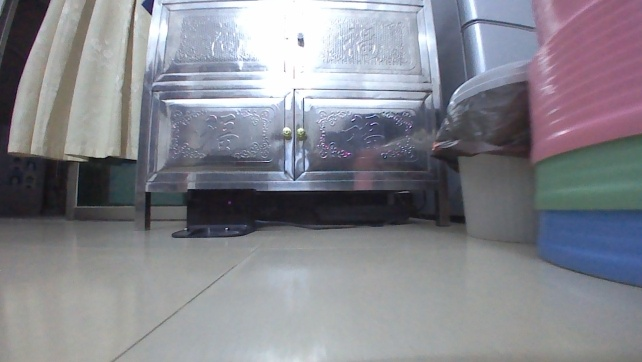charger: (171, 185, 256, 239)
wire: (256, 187, 427, 231)
